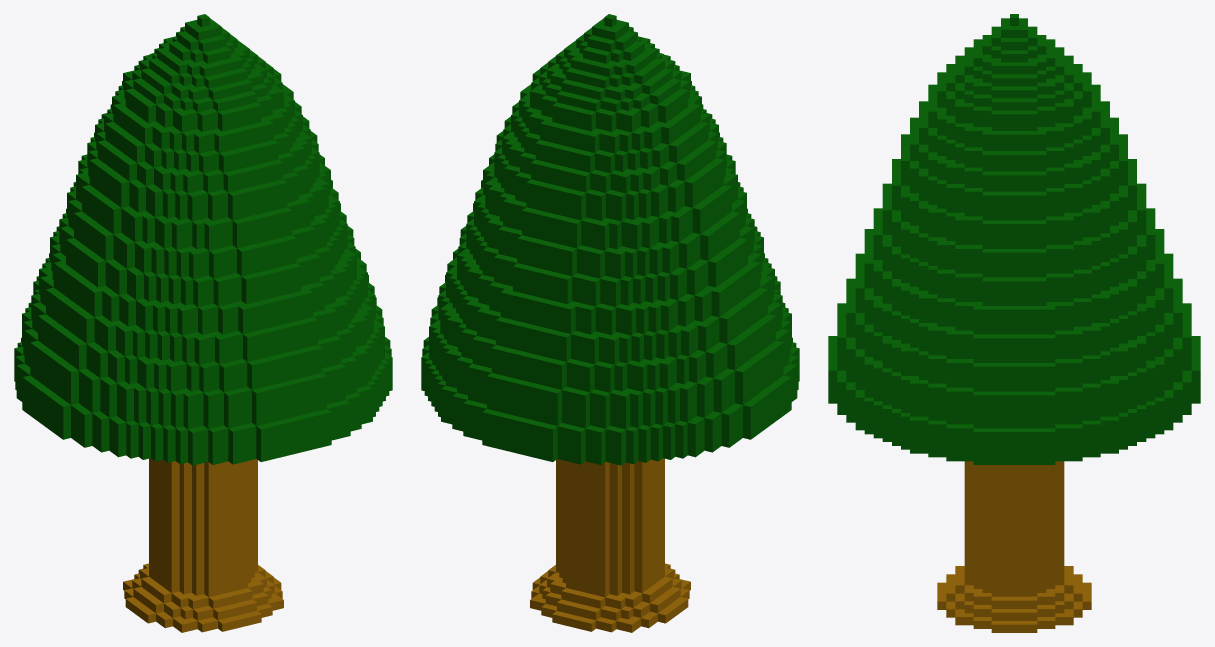
File: Summer Tree03-2.fbx
The picture shows the model from 3 angles, left to right: view 1: azimuth 30°, elevation 25°; view 2: azimuth 150°, elevation 25°; view 3: azimuth 270°, elevation 25°; orthographic projection.
Visible parts, largest first — view 1: Tree03-2, Tree01-Stem, Tree01-Root; view 2: Tree03-2, Tree01-Stem, Tree01-Root; view 3: Tree03-2, Tree01-Stem, Tree01-Root.
Part boxes in pixels (x1,y1,x2,y2): Tree03-2: (14, 14, 392, 465); Tree01-Stem: (149, 458, 257, 597); Tree01-Root: (123, 563, 283, 632); Tree03-2: (421, 14, 799, 465); Tree01-Stem: (556, 458, 664, 597); Tree01-Root: (530, 563, 690, 632); Tree03-2: (828, 14, 1200, 464); Tree01-Stem: (964, 461, 1064, 596); Tree01-Root: (937, 566, 1091, 632).
Bounding box in the file's own units: 410 × 710 × 410.
